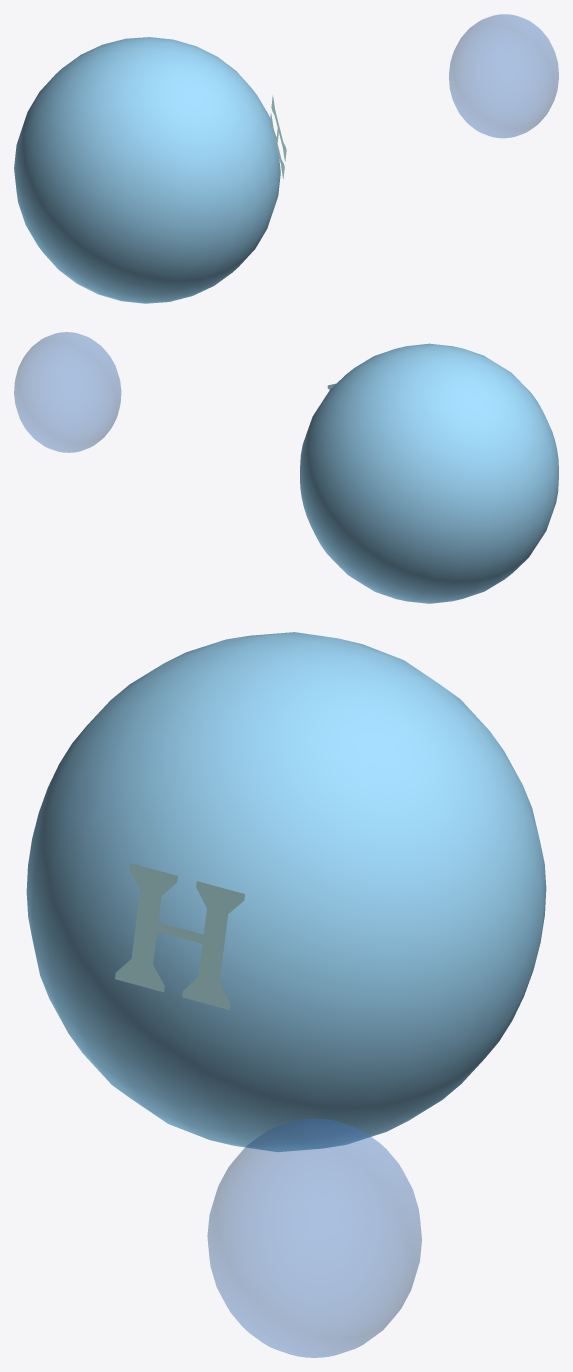
File: HydrogenAtom.gltf
3 renders of one model, top to bottom at view 1: azimuth 30°, elevation 25°; view 2: azimuth 150°, elevation 25°; view 3: azimuth 270°, elevation 25°, orthographic. The views are drawn at different scales.
Parts seen in each view (by area): view 1: Sphere, Sphere.002, Text; view 2: Sphere, Sphere.002; view 3: Sphere, Sphere.002, Text.
Part boxes in pixels (x1=…): Sphere: x1=14, y1=37, x2=280, y2=303; Sphere.002: x1=449, y1=14, x2=558, y2=137; Text: x1=269, y1=95, x2=286, y2=179; Sphere: x1=300, y1=343, x2=558, y2=603; Sphere.002: x1=14, y1=332, x2=121, y2=452; Sphere: x1=26, y1=632, x2=546, y2=1151; Sphere.002: x1=207, y1=1118, x2=421, y2=1357; Text: x1=115, y1=863, x2=244, y2=1009.
Size of the model in its own units: 1.93 by 0.845 by 0.8438.
